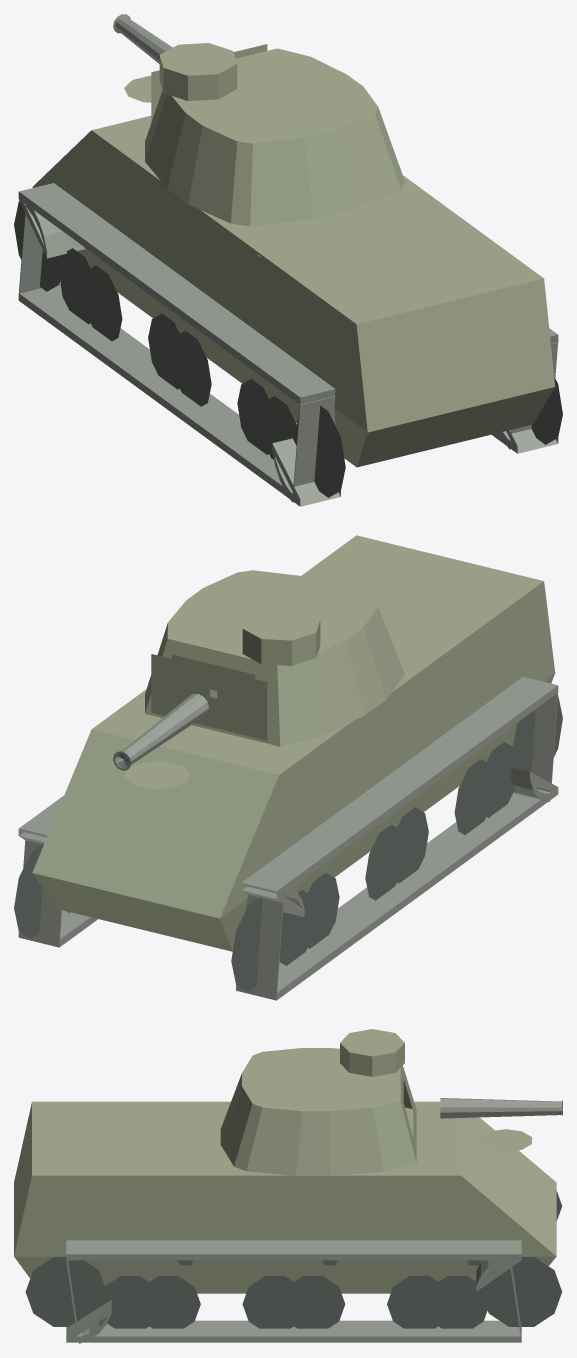
The picture shows the model from 3 angles, top to bottom: view 1: azimuth 30°, elevation 25°; view 2: azimuth 150°, elevation 25°; view 3: azimuth 270°, elevation 25°; orthographic projection. The views are drawn at different scales.
Parts seen in each view (by area): view 1: LOW_hull_Shell, LOW_turret_Shell, LOW_tracks, LOW_wheels, LOW_turret_Cupola, LOW_gun_Tube; view 2: LOW_hull_Shell, LOW_tracks, LOW_turret_Shell, LOW_wheels, LOW_turret_Cupola, LOW_barrel_Shell, LOW_gun_Tube, LOW_hull_Hatches; view 3: LOW_hull_Shell, LOW_wheels, LOW_turret_Shell, LOW_tracks, LOW_turret_Cupola, LOW_gun_Tube, LOW_hull_Hatches.
Part boxes in pixels (left/top/right/bottom): LOW_hull_Shell: left=32, top=115, right=555, bottom=467; LOW_turret_Shell: left=145, top=44, right=404, bottom=226; LOW_tracks: left=18, top=183, right=558, bottom=506; LOW_wheels: left=14, top=201, right=562, bottom=497; LOW_turret_Cupola: left=159, top=43, right=325, bottom=100; LOW_gun_Tube: left=113, top=14, right=172, bottom=63; LOW_hull_Shell: left=32, top=535, right=555, bottom=951; LOW_tracks: left=18, top=677, right=558, bottom=1000; LOW_turret_Shell: left=145, top=570, right=404, bottom=746; LOW_wheels: left=14, top=695, right=562, bottom=991; LOW_turret_Cupola: left=200, top=605, right=320, bottom=665; LOW_barrel_Shell: left=172, top=654, right=255, bottom=727; LOW_gun_Tube: left=113, top=694, right=208, bottom=770; LOW_hull_Hatches: left=124, top=654, right=448, bottom=788; LOW_hull_Shell: left=14, top=1101, right=556, bottom=1293; LOW_wheels: left=25, top=1191, right=561, bottom=1328; LOW_turret_Shell: left=220, top=1048, right=416, bottom=1175; LOW_tracks: left=66, top=1240, right=521, bottom=1343; LOW_turret_Cupola: left=326, top=1029, right=404, bottom=1103; LOW_gun_Tube: left=440, top=1098, right=562, bottom=1118; LOW_hull_Hatches: left=188, top=1129, right=531, bottom=1177.
Size of the model in its own units: 2.67 by 2.86 by 6.08.
